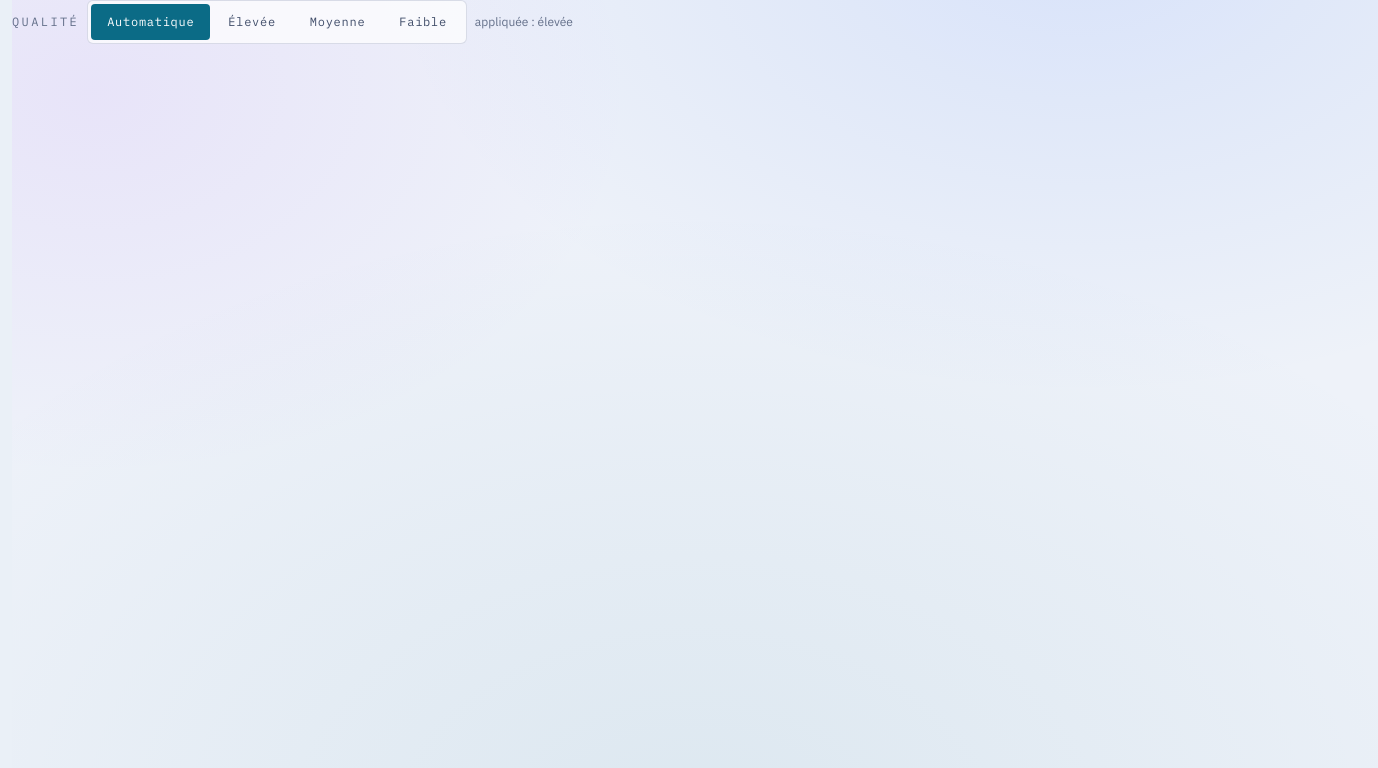
Test: QualitySelector › n’affiche le niveau appliqué qu’en mode automatique
Expected: the text "appliquée : élevée" is shown, [475,12,573,32]
Click the button "Élevée" at (252, 22), box [212,4,292,40]
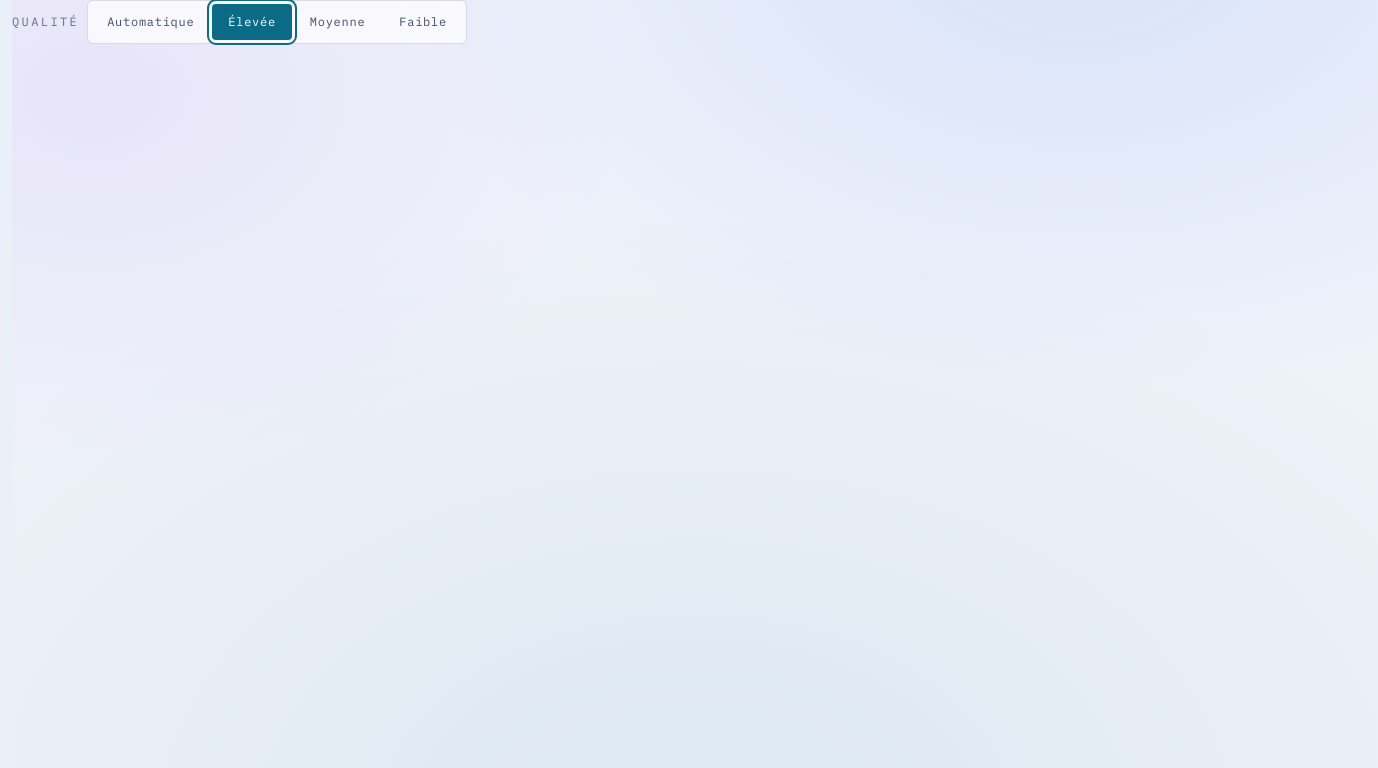
Result: the text with test id "quality-resolved" is gone
